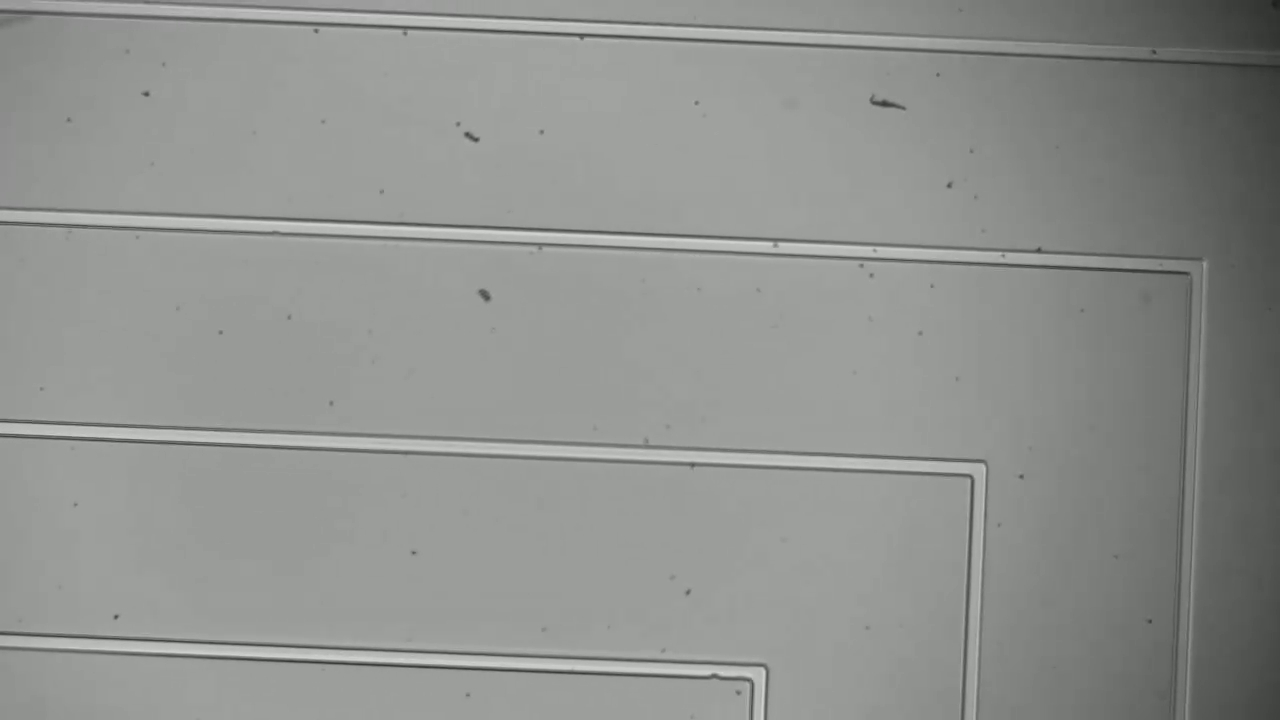edge_bite: (697, 646, 732, 685)
